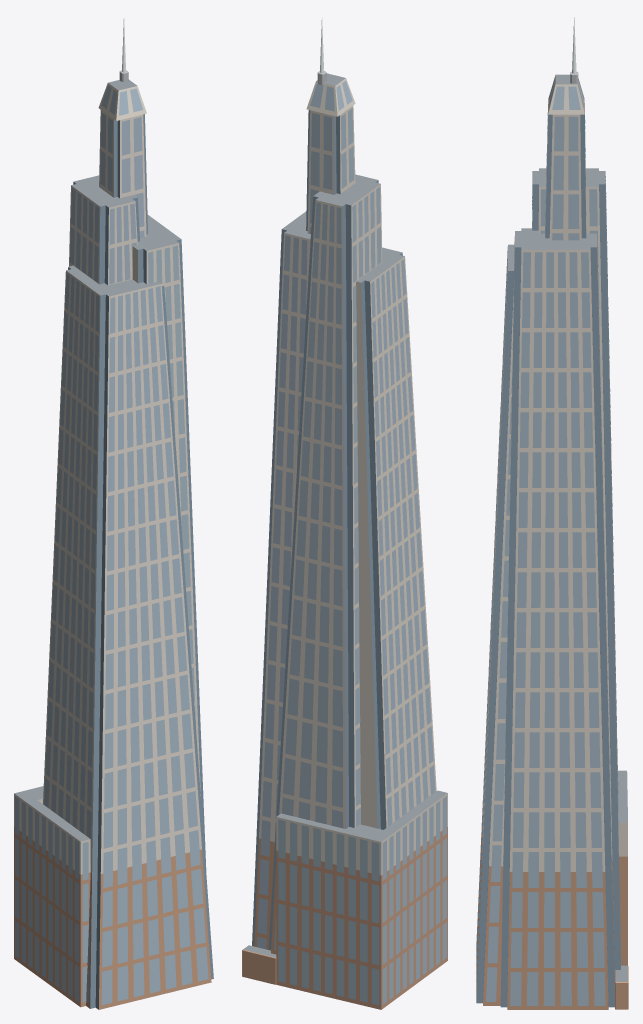
Rendered from nyc-one-vanderbilt.glb.
The picture shows the model from 3 angles, left to right: view 1: azimuth 30°, elevation 25°; view 2: azimuth 150°, elevation 25°; view 3: azimuth 270°, elevation 25°; orthographic projection. The views are drawn at different scales.
Parts seen in each view (by area): view 1: One Vanderbilt; view 2: One Vanderbilt; view 3: One Vanderbilt.
Boxes of the visible parts, x1,y1,x2,y2 form: One Vanderbilt: [14, 18, 213, 1009]; One Vanderbilt: [242, 17, 447, 1009]; One Vanderbilt: [476, 17, 628, 1009].
Size of the model in its own units: 65.26 by 427 by 60.8.
